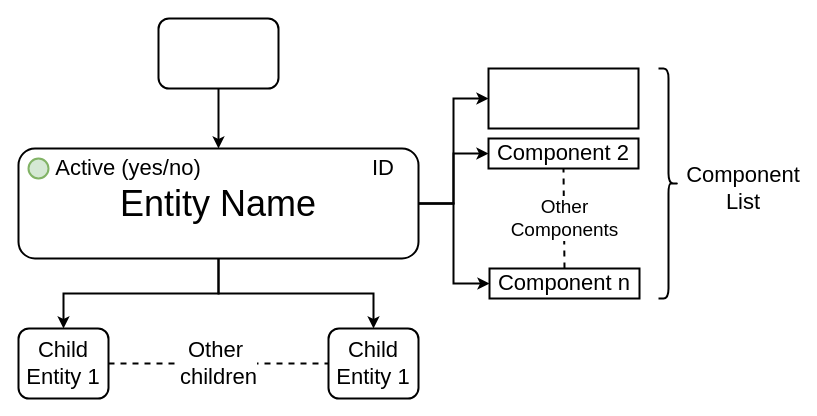
This 817x416 diagram has some shape labels left out. The shapes that lost their labels are listed below. From the top down, each one's box as (x1, y1, x2, y2) in pixels, then its label:
(157, 17, 279, 89): Parent Entity
(487, 67, 639, 129): Transform Component
